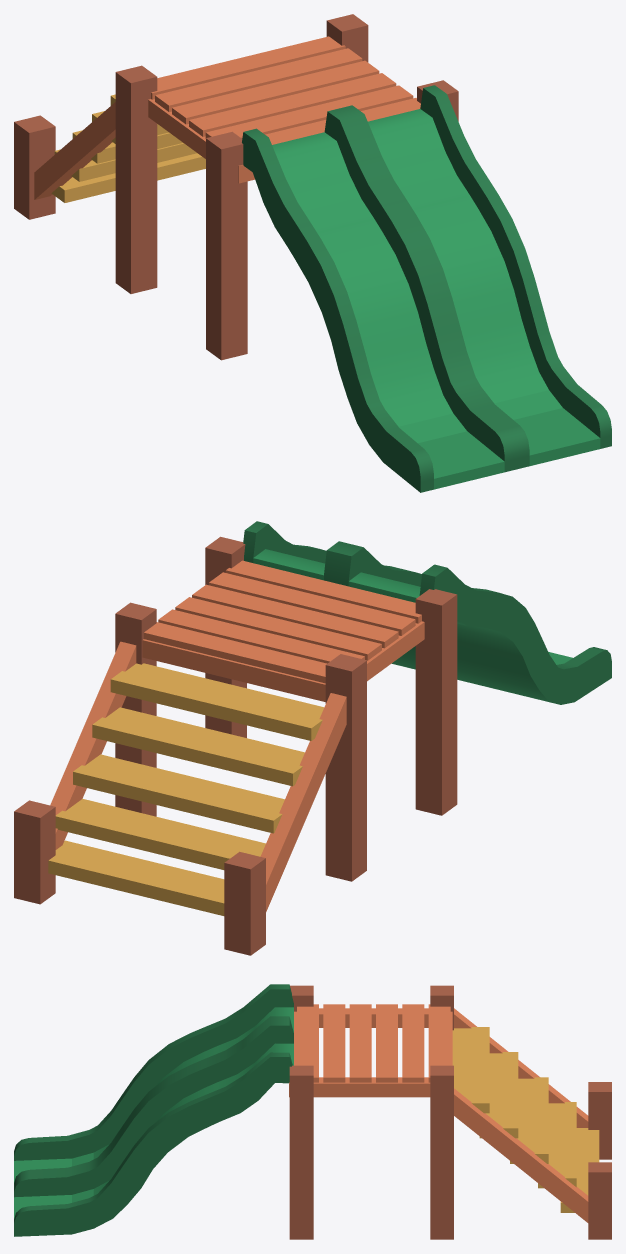
Rendered from Slide_03.fbx.
3 views of the same model, one above another, from view 1: azimuth 30°, elevation 25°; view 2: azimuth 150°, elevation 25°; view 3: azimuth 270°, elevation 25° (orthographic). The views are drawn at different scales.
Parts seen in each view (by area): view 1: Slide_03; view 2: Slide_03; view 3: Slide_03.
Part boxes in pixels (x1,y1,x2,y2): Slide_03: [14, 14, 611, 492]; Slide_03: [14, 521, 611, 955]; Slide_03: [14, 984, 611, 1239].
Bounding box in the file's own units: 1.42 × 1.32 × 3.98.
